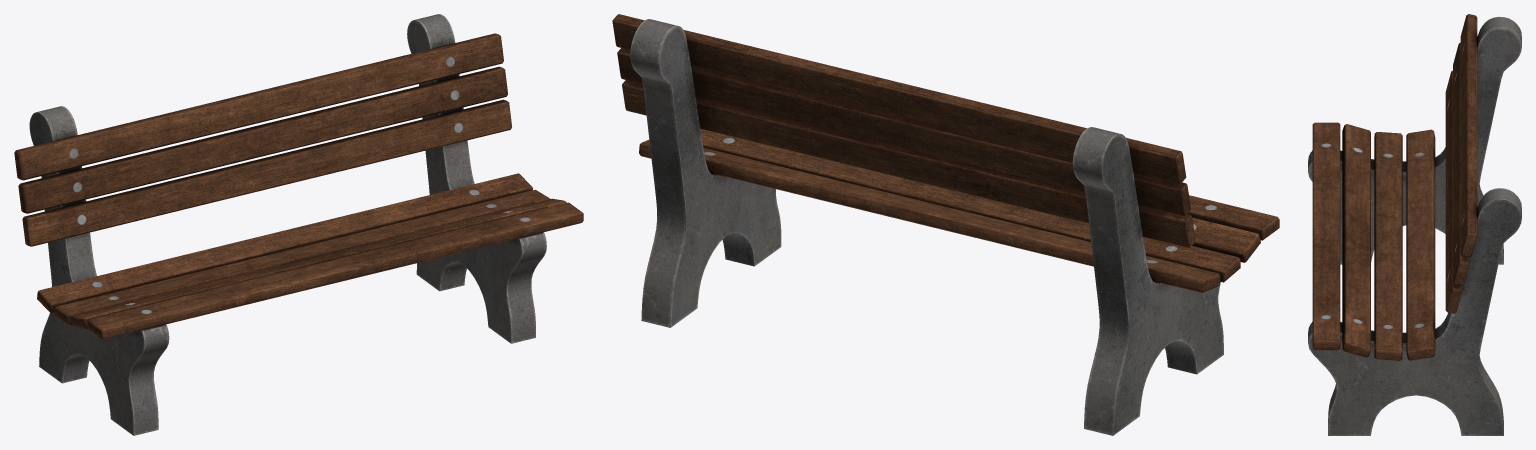
3 views of the same model, side by side, from view 1: azimuth 30°, elevation 25°; view 2: azimuth 150°, elevation 25°; view 3: azimuth 270°, elevation 25° (orthographic). The views are drawn at different scales.
Parts seen in each view (by area): view 1: Bench_Concrete5; view 2: Bench_Concrete5; view 3: Bench_Concrete5.
Boxes of the visible parts, x1,y1,x2,y2 form: Bench_Concrete5: (14,14,583,435); Bench_Concrete5: (612,14,1279,435); Bench_Concrete5: (1308,14,1521,435).
Size of the model in its own units: 1.83 by 0.9205 by 0.7538.
Materials: 1 (1 with a texture image).
